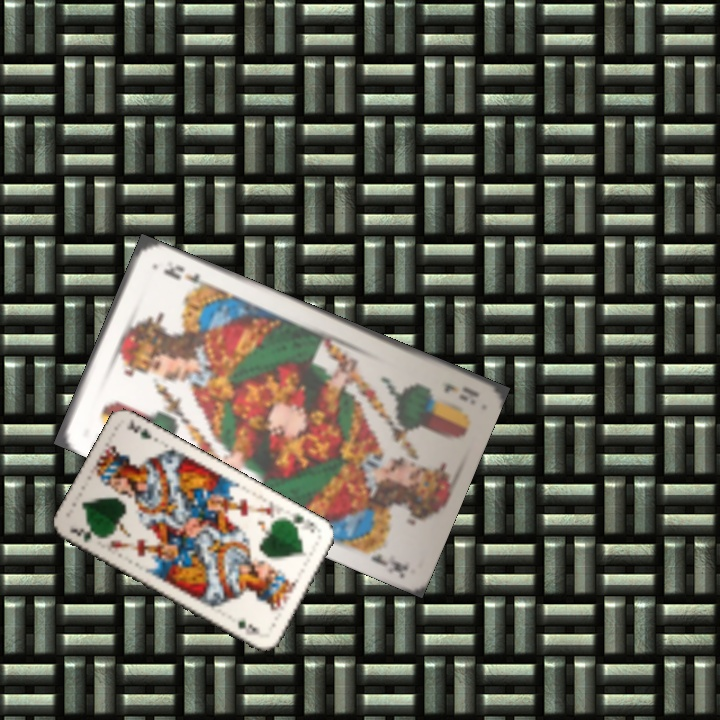EK: (440, 379, 480, 400)
GK: (284, 510, 320, 536), (65, 524, 94, 546)
